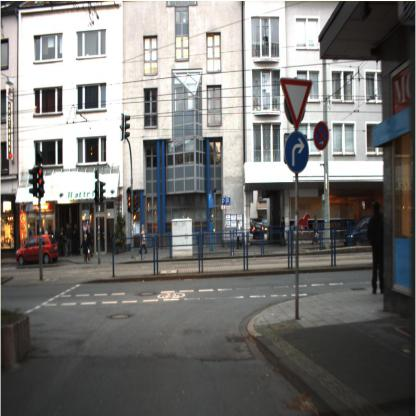mandatory: (278, 128, 312, 177)
other: (276, 69, 315, 129)
